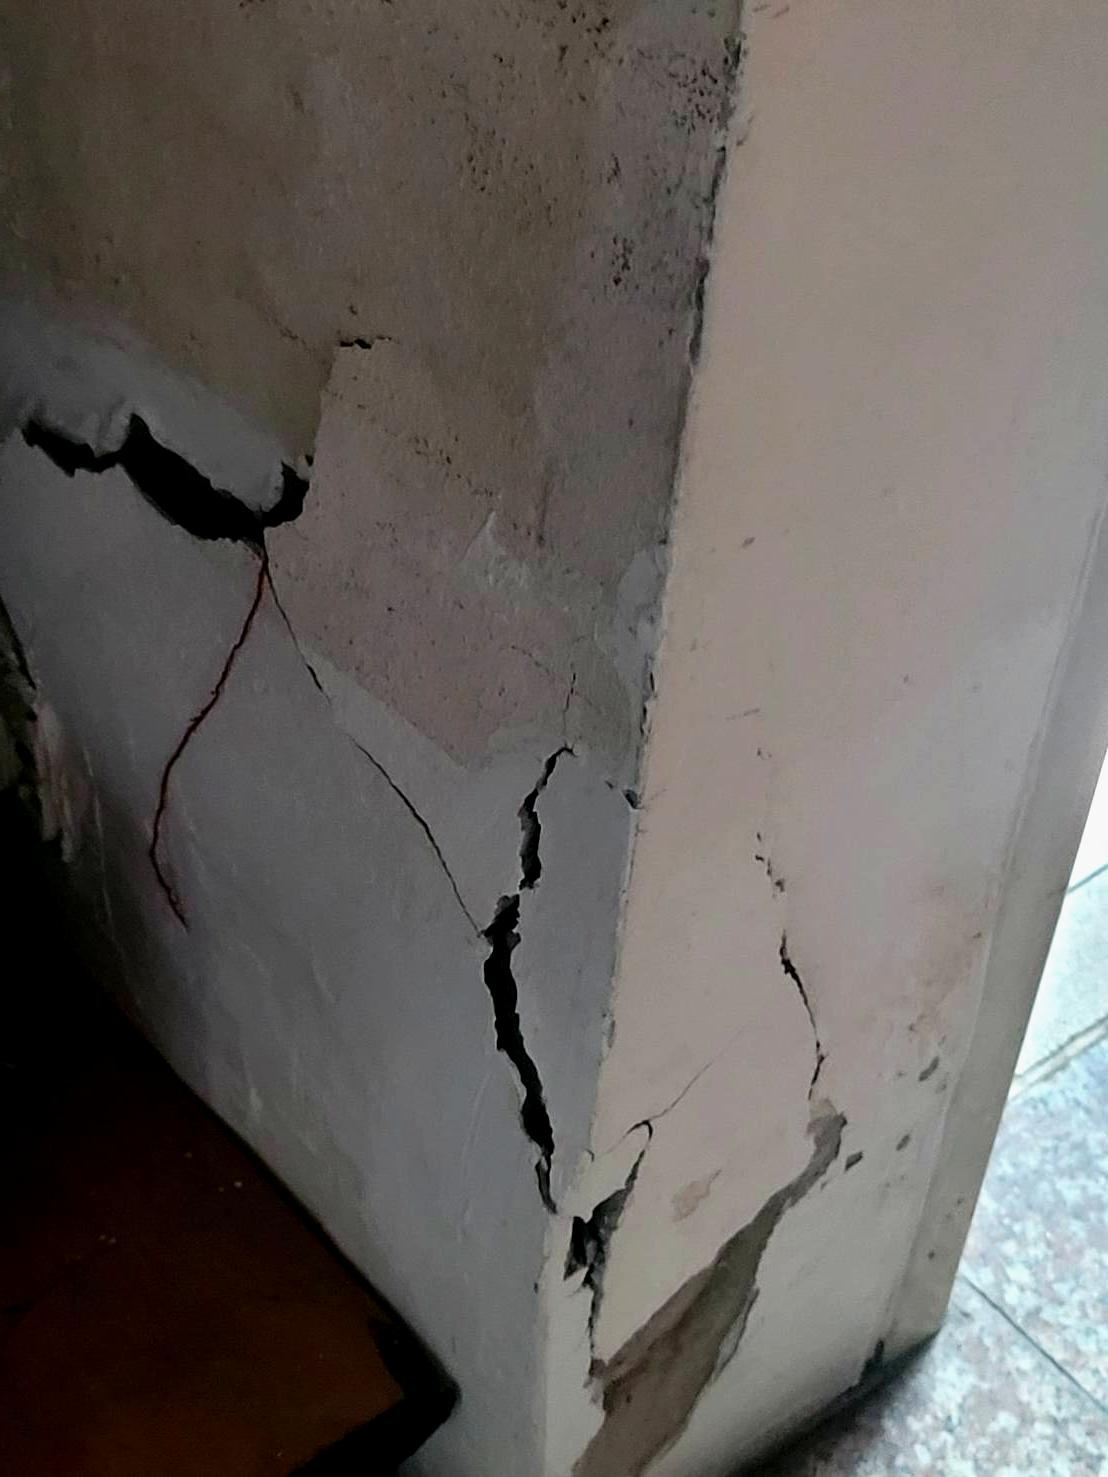High: (6, 272, 926, 1472)
